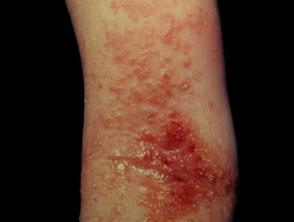Eczema: (116, 102, 230, 222), (100, 0, 214, 97)
